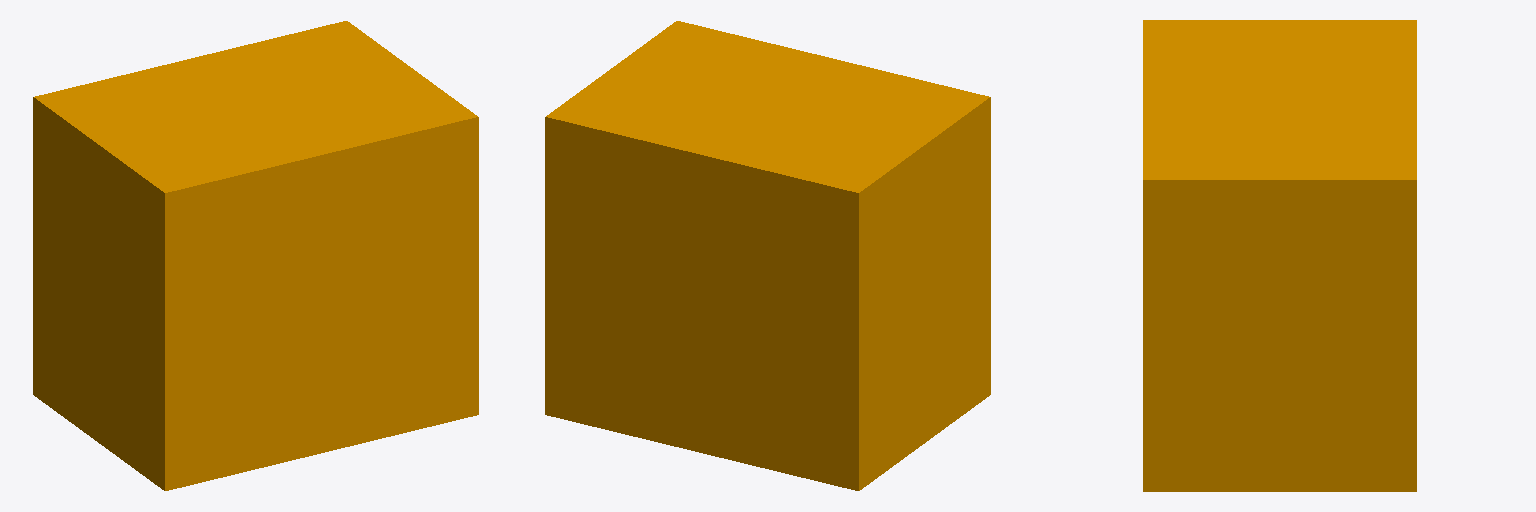
robot.urdf — object:
<robot name="object">
  <link name="object">
    <visual>
      <origin xyz="0 0 0" />
      <geometry>
        <box size="0.08800000000000002 0.064 0.08" />
      </geometry>
    </visual>

    <collision>
      <origin xyz="0 0 0" />
      <geometry>
        <box size="0.08800000000000002 0.064 0.08" />
      </geometry>
    </collision>

    <inertial>
      <mass value="0.05" />
      <inertia ixx="0.0001" ixy="0.0" ixz="0.0" iyy="0.0001" iyz="0.0" izz="0.0001" />
    </inertial>
  </link>
</robot>

--- Render facts (derived) ---
Views: 3 orthographic renders of the robot side by side, from view 1: azimuth 30°, elevation 25°; view 2: azimuth 150°, elevation 25°; view 3: azimuth 270°, elevation 25°.
Model object with 1 links and 0 joints (none), rooted at object, posed all joints at 0.
Links seen in each view (by area): view 1: object; view 2: object; view 3: object.
Link boxes in pixels (left/top/right/bottom): object: left=33, top=21, right=478, bottom=490; object: left=545, top=21, right=990, bottom=490; object: left=1143, top=20, right=1416, bottom=491.
Size in the robot's own frame: 0.088 by 0.064 by 0.08 metres.
Geometry: primitives only (box / cylinder / sphere), no mesh files.